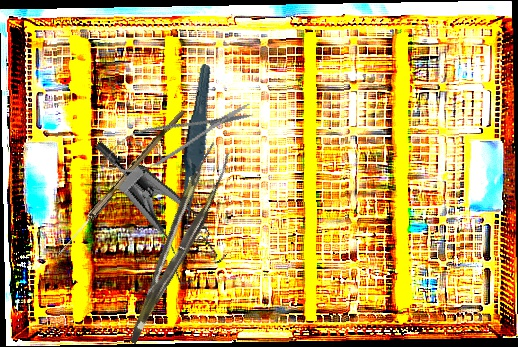Micro Scissor: (94, 90, 259, 186)
Speculum: (57, 138, 245, 298)
Surgical Spoon: (56, 107, 185, 258)
Tissue Forceps: (105, 141, 243, 345), (166, 63, 223, 230)
